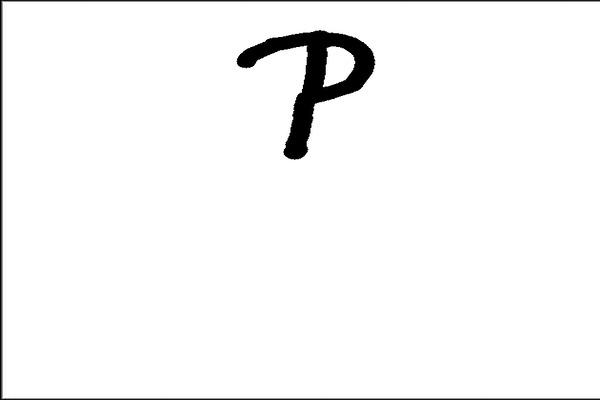P: (230, 20, 378, 176)
